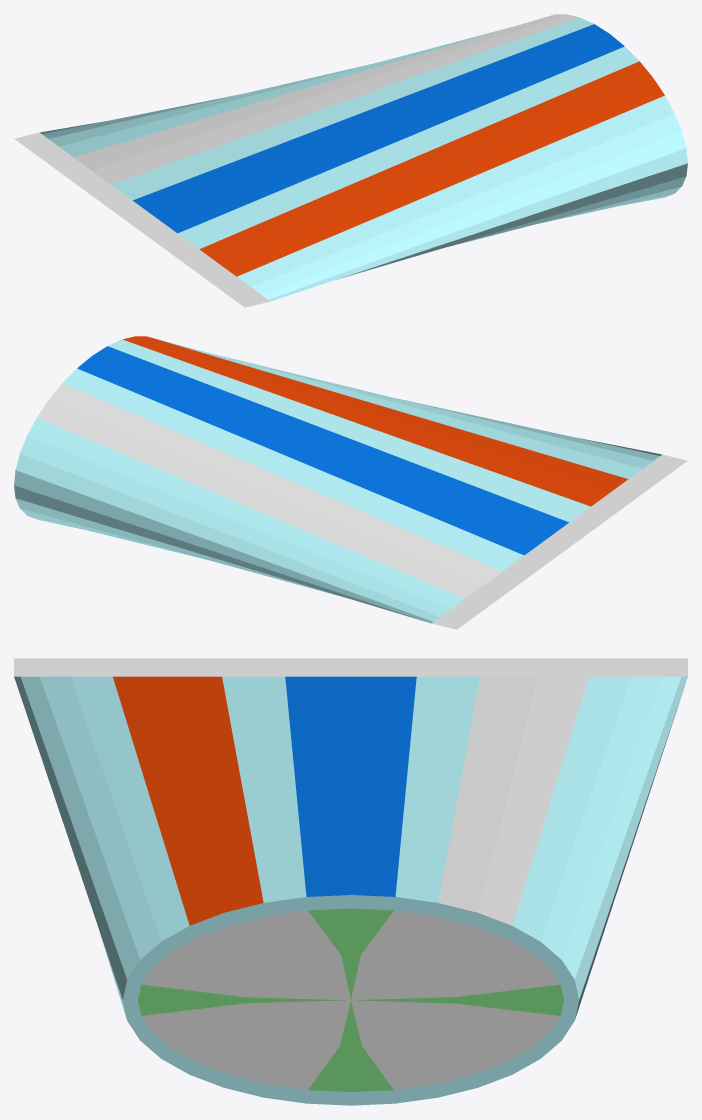
Rendered from ToothpasteLeft.fbx.
The picture shows the model from 3 angles, top to bottom: view 1: azimuth 30°, elevation 25°; view 2: azimuth 150°, elevation 25°; view 3: azimuth 270°, elevation 25°; orthographic projection. The views are drawn at different scales.
Parts seen in each view (by area): view 1: Цилиндр.001; view 2: Цилиндр.001; view 3: Цилиндр.001.
Part boxes in pixels (<box>): Цилиндр.001: <box>14,14,687,307</box>; Цилиндр.001: <box>14,336,687,629</box>; Цилиндр.001: <box>14,658,687,1105</box>.
Bounding box in the file's own units: 423 × 122 × 353.
